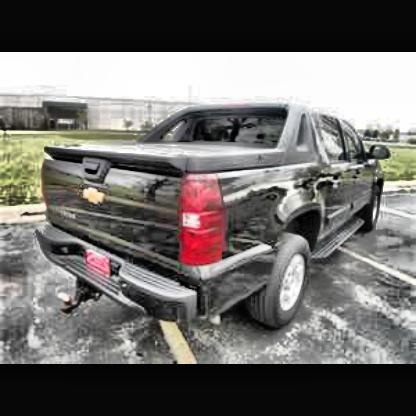Chevrolet Avalanche Crew Cab 2012: (37, 104, 394, 338)
